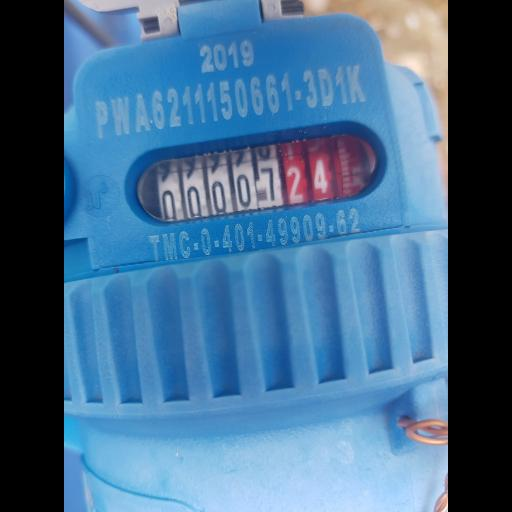0: (202, 151, 237, 217), (226, 147, 261, 213), (178, 155, 213, 219), (156, 159, 187, 222)
2: (279, 141, 313, 205)
4: (331, 131, 382, 197), (304, 137, 340, 202)
7: (251, 145, 287, 210)
border_water_meter_number: (119, 115, 392, 234)
